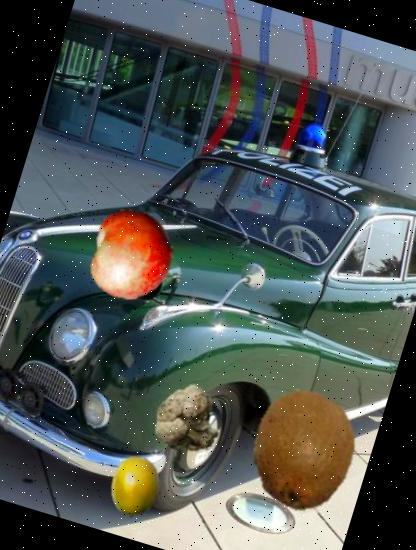Cauliflower: (146, 376, 233, 464)
Kiwi: (226, 373, 380, 527)
Maracuja: (98, 448, 174, 524)
Nectarine: (75, 198, 189, 312)
